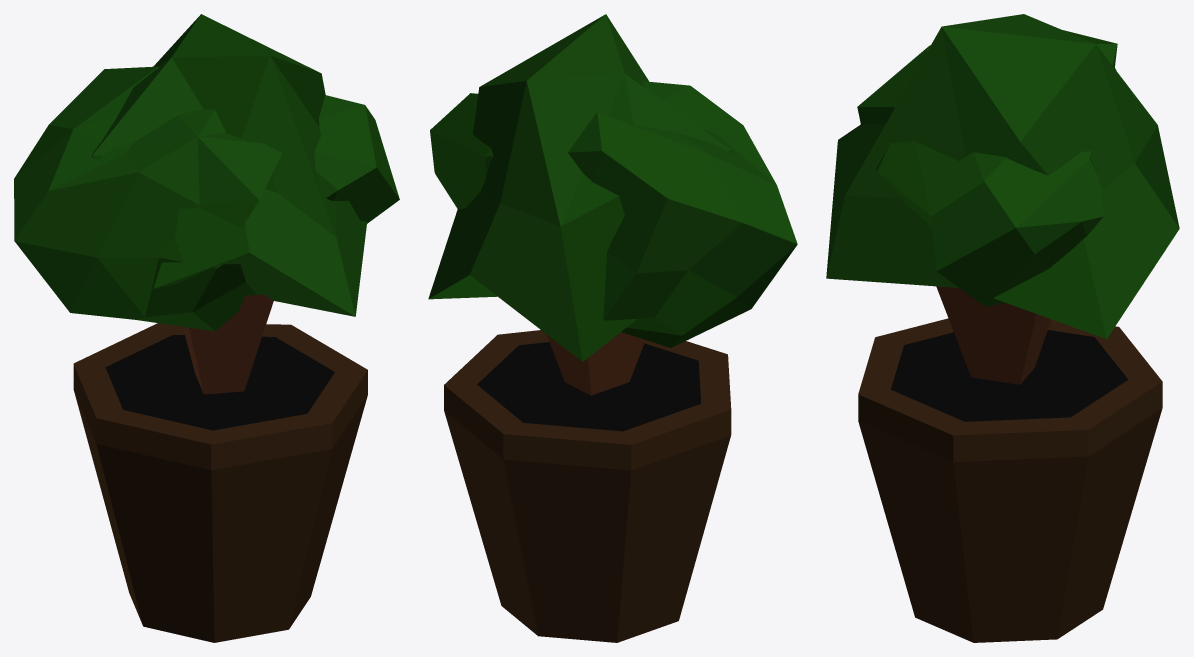
File: flowerpot.FBX
3 views of the same model, side by side, from view 1: azimuth 30°, elevation 25°; view 2: azimuth 150°, elevation 25°; view 3: azimuth 270°, elevation 25° (orthographic). The views are drawn at different scales.
Parts seen in each view (by area): view 1: Cylinder001, Sphere002, Pyramid001, Box152; view 2: Cylinder001, Pyramid001, Sphere002, Box152; view 3: Cylinder001, Pyramid001, Sphere002, Box152.
Part boxes in pixels (x1,y1,x2,y2): Cylinder001: (73, 323, 367, 642); Sphere002: (14, 66, 399, 331); Pyramid001: (92, 14, 367, 316); Box152: (183, 294, 273, 394); Cylinder001: (444, 330, 731, 642); Pyramid001: (428, 14, 732, 361); Sphere002: (430, 81, 797, 347); Box152: (546, 332, 645, 395); Cylinder001: (858, 318, 1162, 642); Pyramid001: (826, 14, 1179, 339); Sphere002: (857, 30, 1117, 306); Box152: (936, 286, 1051, 384).
Bounding box in the file's own units: 0.4127 × 0.6112 × 0.333.
